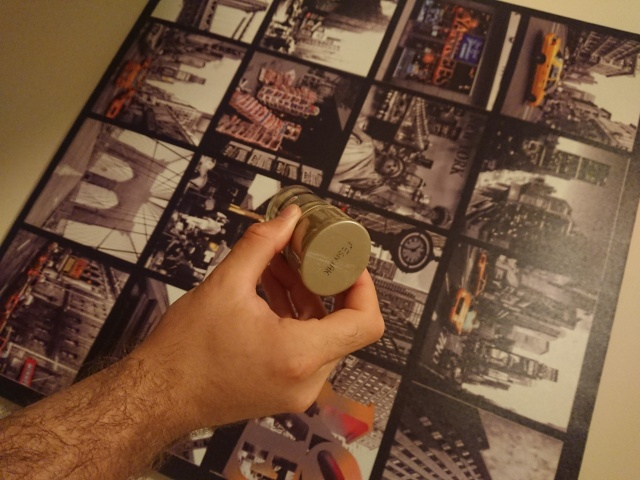Kotanyi Garlic Granules 70g: (264, 183, 373, 298)
